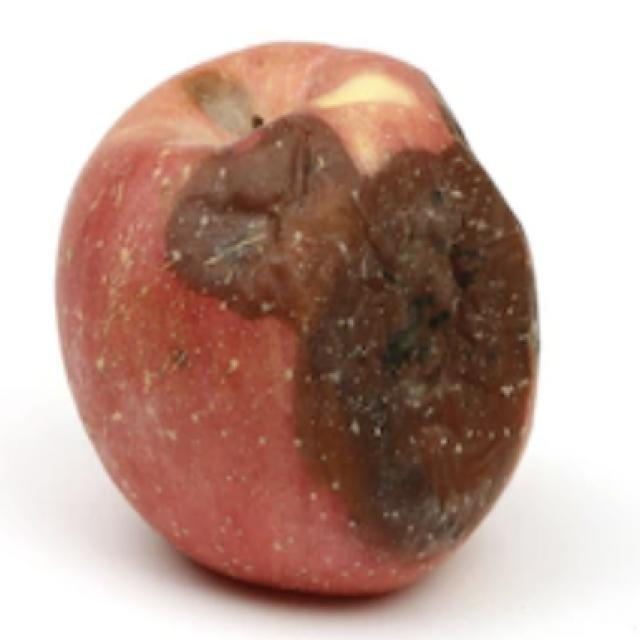Rotten: (68, 45, 550, 607)
